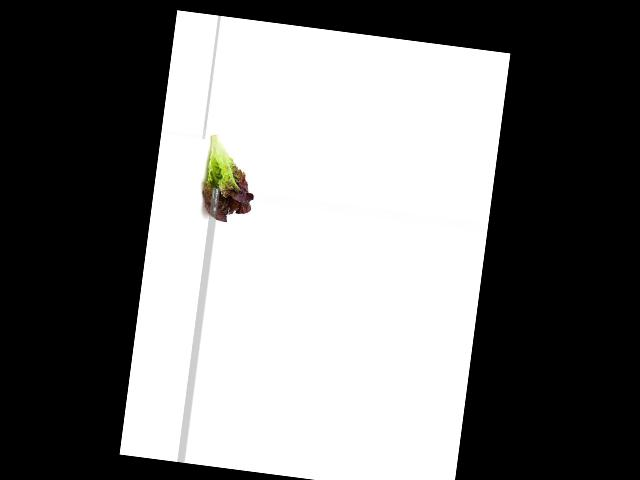lettuce: (194, 130, 261, 226)
